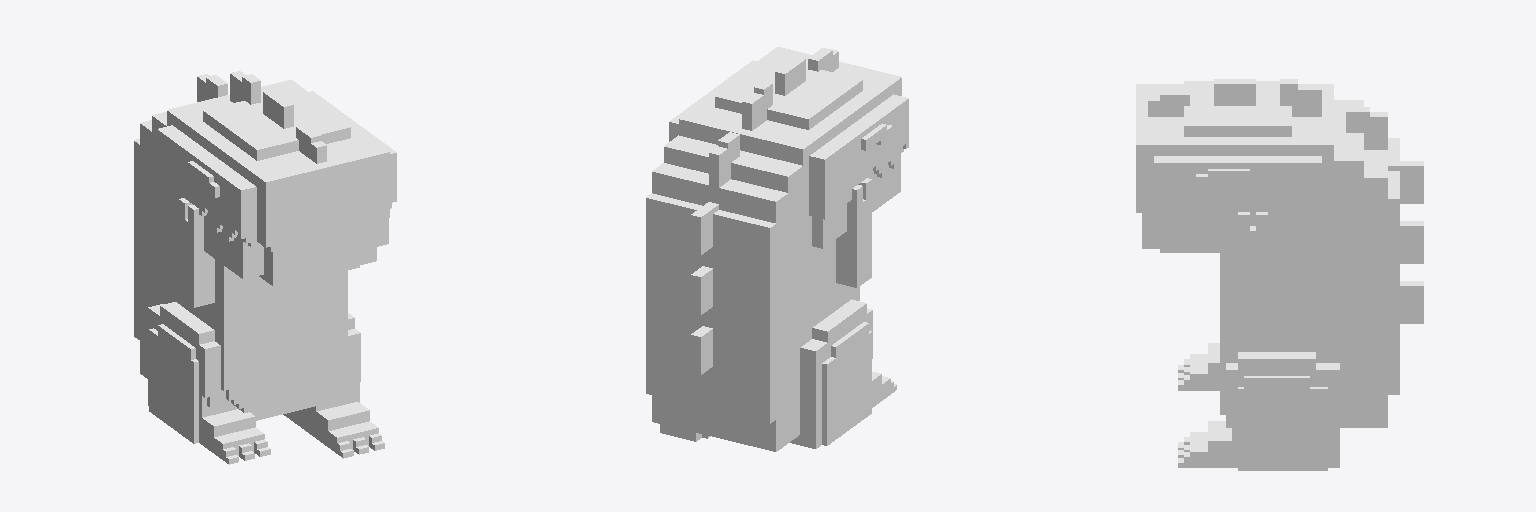
File: Kaiju-HoldL.obj
3 views of the same model, side by side, from view 1: azimuth 30°, elevation 25°; view 2: azimuth 150°, elevation 25°; view 3: azimuth 270°, elevation 25° (orthographic).
Bounding box in the file's own units: 32 × 64 × 48.